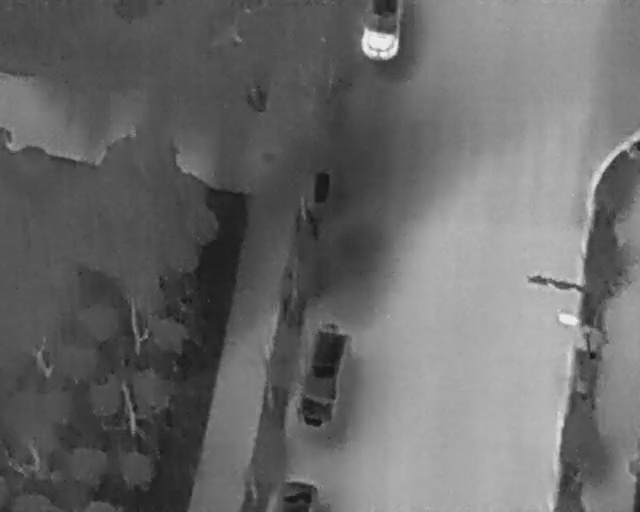Car: (289, 319, 355, 433), (357, 0, 402, 63), (276, 479, 320, 510)
